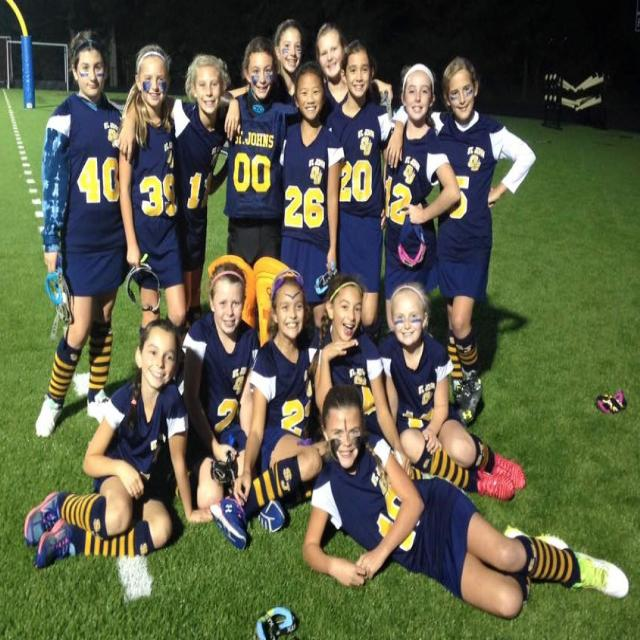body: (299, 385, 630, 623), (385, 54, 535, 429), (19, 314, 214, 568), (34, 25, 135, 439), (115, 55, 252, 327), (373, 277, 527, 507), (209, 265, 323, 550), (314, 274, 424, 481), (324, 37, 396, 347), (382, 60, 462, 338), (180, 261, 265, 513), (118, 42, 188, 345), (210, 35, 298, 270), (278, 59, 345, 342), (225, 18, 394, 100), (314, 20, 380, 123)
